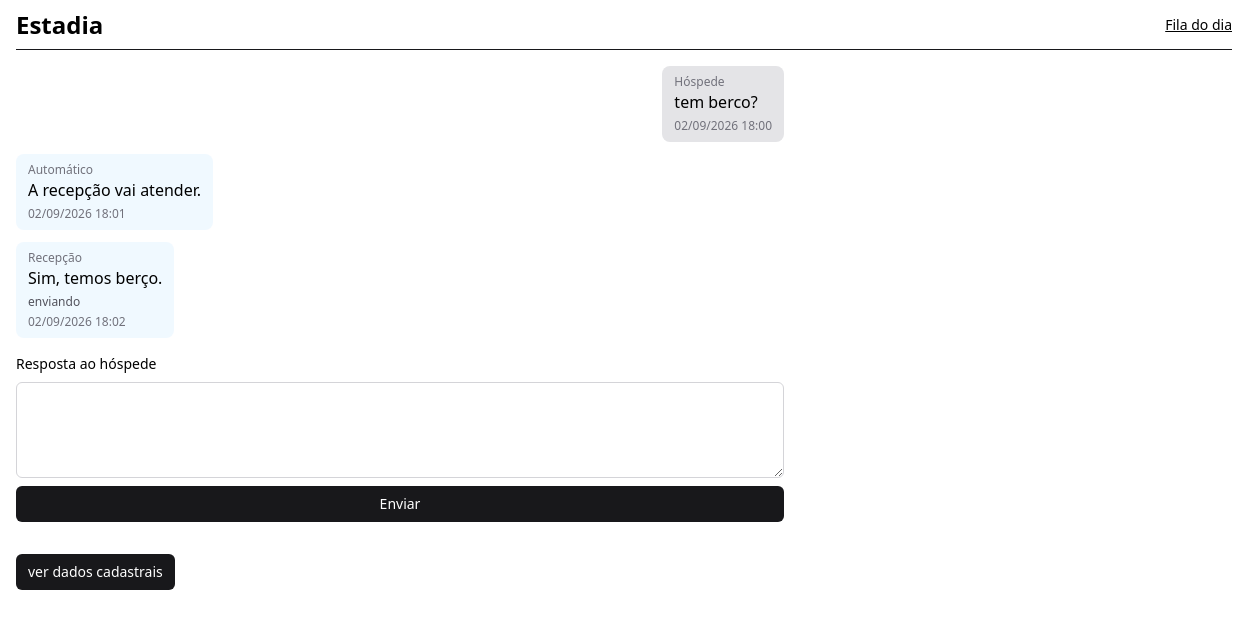
Scenario: TelaEstadia › falha ao gravar preserva o texto no campo
The width and height of the screenshot is (1249, 639).
Type "Texto que nao pode sumir" into the text box labelled "Resposta ao hóspede" at coordinates (400, 430), box [16,382,784,478]
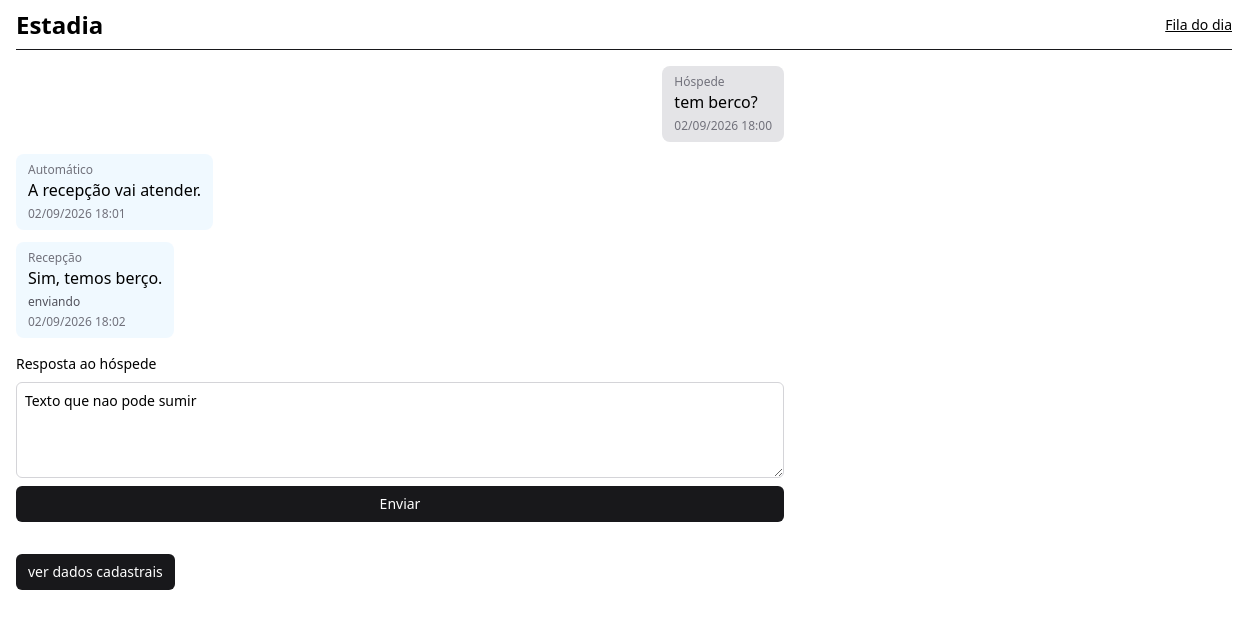
Click the button "Enviar" at coordinates (400, 504), box [16,486,784,522]
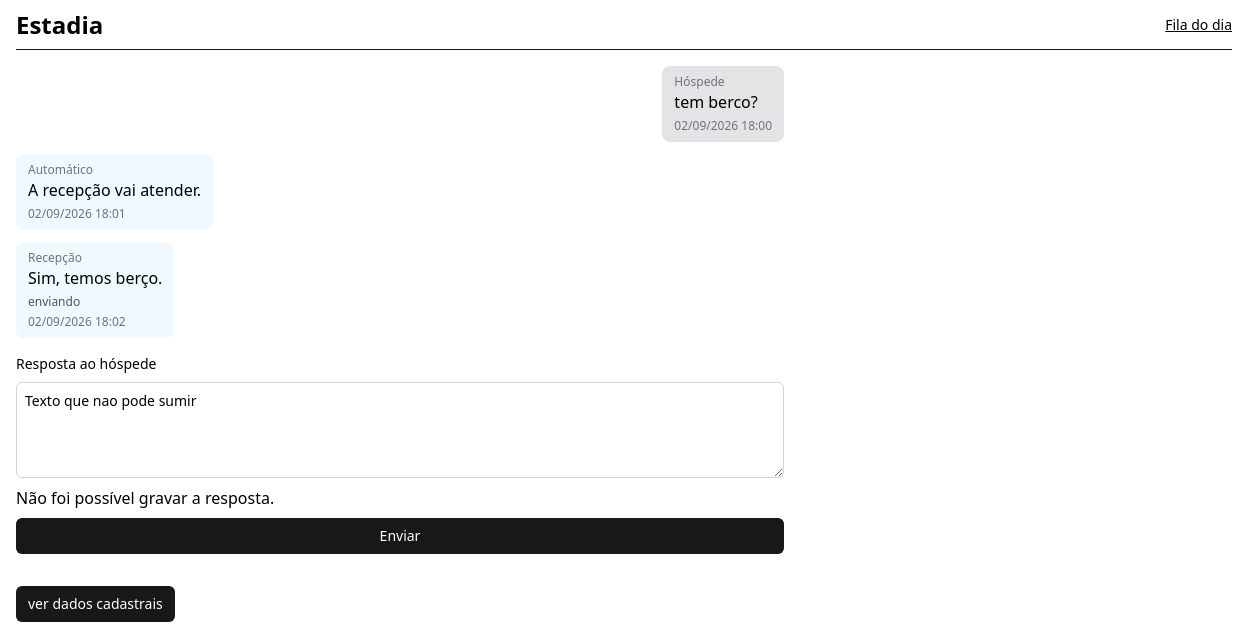
Expected: the text "Não foi possível gravar a resposta." is shown, [16,487,274,509]
